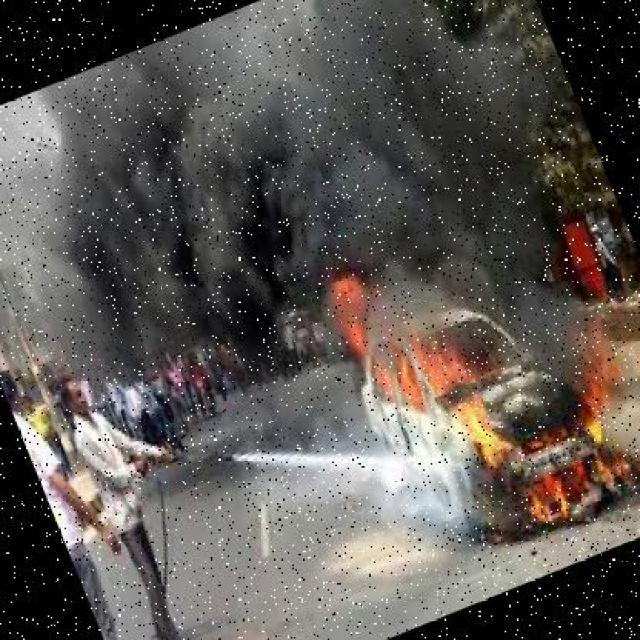fire: (311, 194, 638, 597)
